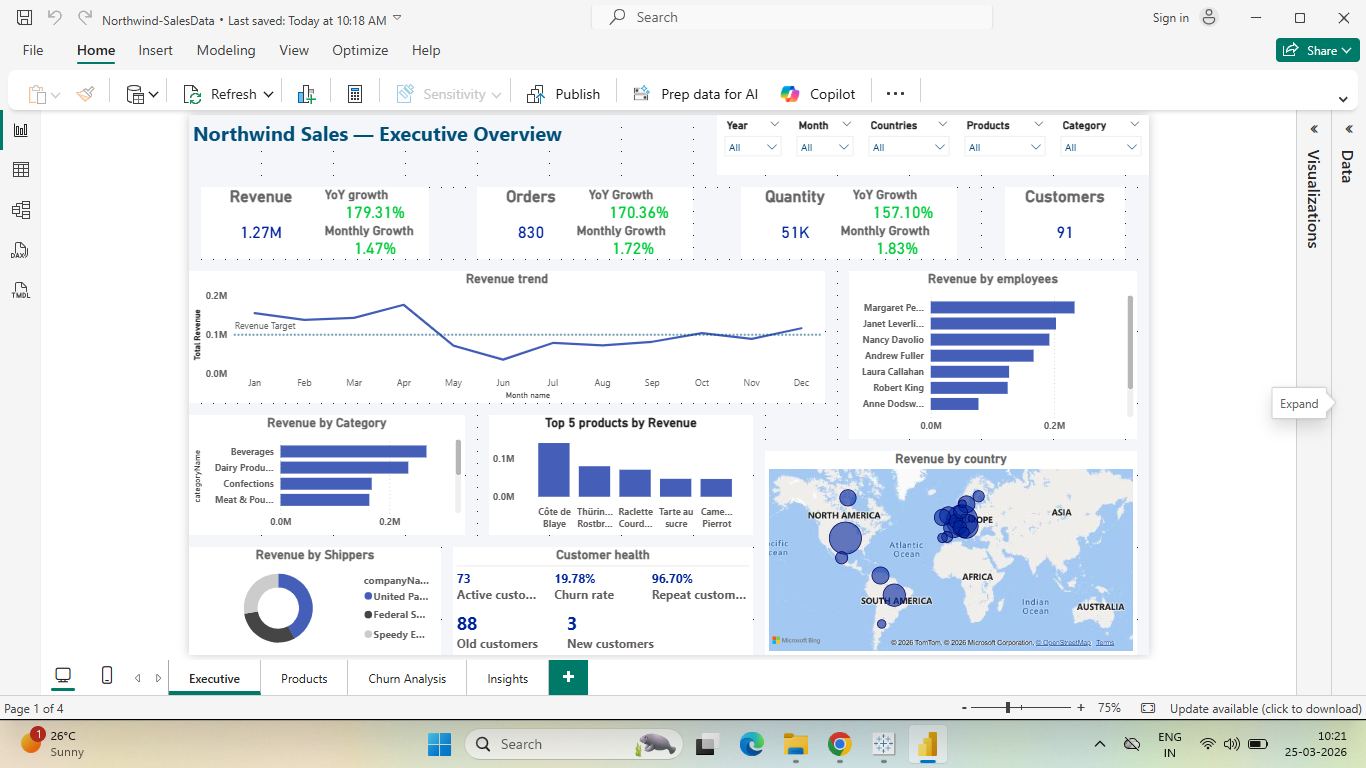

The page's visual inventory and layout, read from the dashboard file:
{"tool":"powerbi","page":{"name":"Executive","canvas":[1280,720],"ordinal":0},"visuals":[{"type":"group","id":"g1","title":"Group 3","box":[704,0,320,80],"z":0,"group":"g7"},{"type":"card","title":"Revenue","fields":{"Values":["Measures (2).Total Revenue"]},"box":[16,96,160,96],"z":0,"group":"g3"},{"type":"card","title":"Orders","fields":{"Values":["Orders analysis.Total orders"]},"box":[384,96,144,96],"z":0,"group":"g5"},{"type":"card","title":"Quantity","fields":{"Values":["Product analysis.Total Quantity sold"]},"box":[736,96,144,96],"z":0,"group":"g6"},{"type":"lineChart","title":"Revenue trend","fields":{"Category":["Date table.Month name"],"Y":["Measures (2).Total Revenue"]},"box":[0,208,848,176],"z":0},{"type":"slicer","fields":{"Values":["products.productName"]},"box":[1024,0,128,80],"z":1000,"group":"g7"},{"type":"card","title":"YoY growth","fields":{"Values":["Measures (2).Revenue yoy %"]},"box":[176,96,144,48],"z":1000,"group":"g10"},{"type":"card","title":"Monthly Growth","fields":{"Values":["Measures (2).Monthly Revenue growth"]},"box":[176,144,144,48],"z":1000,"group":"g9"},{"type":"card","title":"Monthly Growth","fields":{"Values":["Measures (2).Orders monthly growth"]},"box":[512,144,160,48],"z":1000,"group":"g5"},{"type":"card","title":"Monthly Growth","fields":{"Values":["Measures (2).Monthly Quantity growth"]},"box":[864,144,160,48],"z":1000,"group":"g6"},{"type":"columnChart","title":"Top 5 products by Revenue","fields":{"Category":["products.productName"],"Y":["Product analysis.Top product revenue"]},"box":[400,400,352,160],"z":1000},{"type":"slicer","fields":{"Values":["categories.categoryName"]},"box":[1152,0,128,80],"z":2000,"group":"g7"},{"type":"multiRowCard","title":"Customer health","fields":{"Values":["Churn analysis.Active customers","Churn analysis.Churn rate","Churn analysis.Repeat customer rate"]},"box":[352,576,400,144],"z":2000},{"type":"actionButton","box":[0,0,100,40],"z":3000},{"type":"card","title":"YoY Growth","fields":{"Values":["Orders analysis.Order yoy %"]},"box":[528,96,144,48],"z":3000,"group":"g4"},{"type":"card","title":"YoY Growth","fields":{"Values":["Measures (2).Quantity yoy %"]},"box":[880,96,144,48],"z":3000,"group":"g8"},{"type":"multiRowCard","fields":{"Values":["Measures (2).Old customers","Measures (2).New customers"]},"box":[352,656,304,64],"z":4000},{"type":"textbox","box":[0,0,512,48],"z":5000},{"type":"group","id":"g2","title":"Group 4","box":[16,96,304,96],"z":6000},{"type":"group","id":"g3","title":"Group 2","box":[16,96,160,96],"z":7000,"group":"g2"},{"type":"group","id":"g4","title":"Group 5","box":[384,96,288,96],"z":7000},{"type":"group","id":"g5","title":"Group 1","box":[384,96,288,96],"z":8000,"group":"g4"},{"type":"group","id":"g6","title":"Group 1","box":[736,96,288,96],"z":8000,"group":"g8"},{"type":"card","title":"Customers","fields":{"Values":["Measures (2).Total customers"]},"box":[1088,96,160,96],"z":8000},{"type":"group","id":"g7","title":"Group 6","box":[704,0,576,80],"z":9000},{"type":"group","id":"g8","title":"Group 5","box":[736,96,288,96],"z":10000},{"type":"donutChart","title":"Revenue by Shippers","fields":{"Y":["Measures (2).Total Revenue"],"Category":["shippers.companyName"]},"box":[0,576,336,144],"z":11000},{"type":"slicer","fields":{"Values":["Date table.year"]},"box":[704,0,96,80],"z":12000,"group":"g1"},{"type":"clusteredBarChart","title":"Revenue by Category","fields":{"Category":["categories.categoryName"],"Y":["Measures (2).Total Revenue"]},"box":[0,400,368,160],"z":12000},{"type":"slicer","fields":{"Values":["customers.country"]},"box":[896,0,128,80],"z":13000,"group":"g1"},{"type":"map","title":"Revenue by country","fields":{"Category":["customers.country"],"Size":["Measures (2).Total Revenue"]},"box":[768,448,496,272],"z":13000},{"type":"slicer","fields":{"Values":["Date table.Month"]},"box":[800,0,96,80],"z":14000,"group":"g1"},{"type":"group","id":"g9","title":"Group 2","box":[176,144,144,48],"z":14000,"group":"g2"},{"type":"clusteredBarChart","title":"Revenue by employees","fields":{"Category":["employees.employeeName"],"Y":["Measures (2).Total Revenue"]},"box":[880,208,384,224],"z":14000},{"type":"group","id":"g10","title":"Group 2","box":[176,96,144,48],"z":15000,"group":"g2"}]}

Visuals, with their boxes on the page's 1280x720 design canvas (x1, y1, x2, y2). These are canvas units, not pixel positions in the 1366x768 screenshot, which may show the page scaled, cropped or inside an application window:
"Group 3" group: BBox(704, 0, 1024, 80)
"Revenue" card: BBox(16, 96, 176, 192)
"Orders" card: BBox(384, 96, 528, 192)
"Quantity" card: BBox(736, 96, 880, 192)
"Revenue trend" lineChart: BBox(0, 208, 848, 384)
slicer - products.productName: BBox(1024, 0, 1152, 80)
"YoY growth" card: BBox(176, 96, 320, 144)
"Monthly Growth" card: BBox(176, 144, 320, 192)
"Monthly Growth" card: BBox(512, 144, 672, 192)
"Monthly Growth" card: BBox(864, 144, 1024, 192)
"Top 5 products by Revenue" columnChart: BBox(400, 400, 752, 560)
slicer - categories.categoryName: BBox(1152, 0, 1280, 80)
"Customer health" multiRowCard: BBox(352, 576, 752, 720)
actionButton: BBox(0, 0, 100, 40)
"YoY Growth" card: BBox(528, 96, 672, 144)
"YoY Growth" card: BBox(880, 96, 1024, 144)
multiRowCard - Measures (2).Old customers x Measures (2).New customers: BBox(352, 656, 656, 720)
textbox: BBox(0, 0, 512, 48)
"Group 4" group: BBox(16, 96, 320, 192)
"Group 2" group: BBox(16, 96, 176, 192)
"Group 5" group: BBox(384, 96, 672, 192)
"Group 1" group: BBox(384, 96, 672, 192)
"Group 1" group: BBox(736, 96, 1024, 192)
"Customers" card: BBox(1088, 96, 1248, 192)
"Group 6" group: BBox(704, 0, 1280, 80)
"Group 5" group: BBox(736, 96, 1024, 192)
"Revenue by Shippers" donutChart: BBox(0, 576, 336, 720)
slicer - Date table.year: BBox(704, 0, 800, 80)
"Revenue by Category" clusteredBarChart: BBox(0, 400, 368, 560)
slicer - customers.country: BBox(896, 0, 1024, 80)
"Revenue by country" map: BBox(768, 448, 1264, 720)
slicer - Date table.Month: BBox(800, 0, 896, 80)
"Group 2" group: BBox(176, 144, 320, 192)
"Revenue by employees" clusteredBarChart: BBox(880, 208, 1264, 432)
"Group 2" group: BBox(176, 96, 320, 144)
